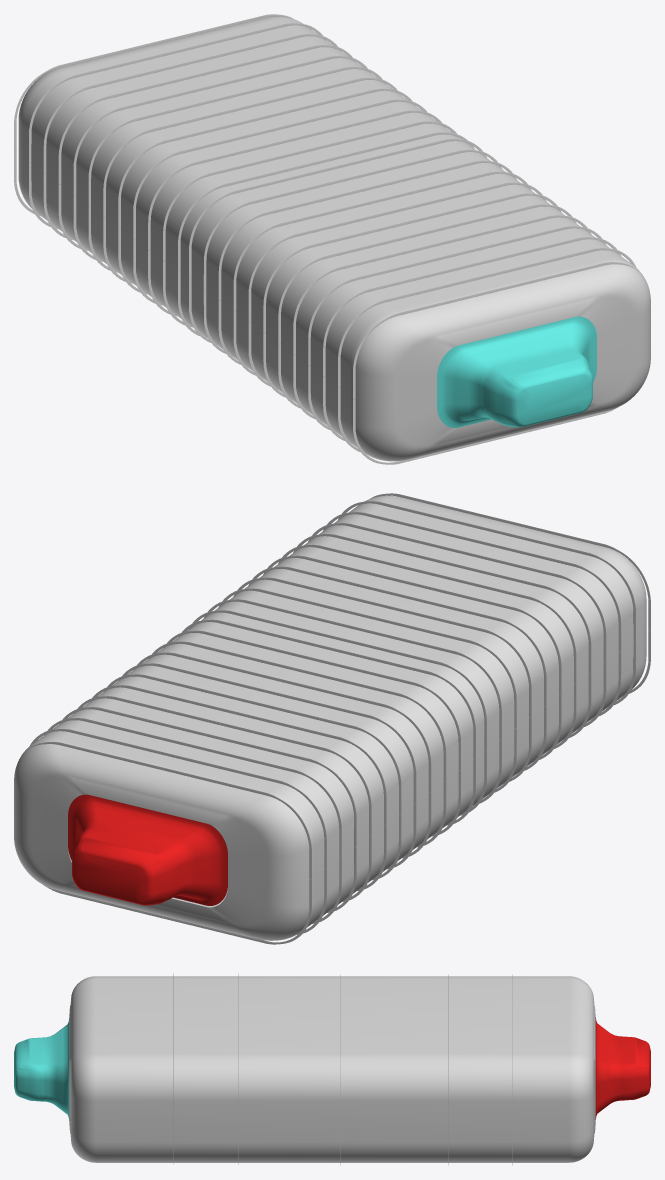
The model's file is MAProcketleague.fbx.
The picture shows the model from 3 angles, top to bottom: view 1: azimuth 30°, elevation 25°; view 2: azimuth 150°, elevation 25°; view 3: azimuth 270°, elevation 25°; orthographic projection. The views are drawn at different scales.
Visible parts, largest first — view 1: Cube, Cube.001, Cylinder.029, Cylinder.013, Cylinder.020, Cylinder.021, Cylinder.022, Cylinder.014, Cylinder.015, Cylinder.019, Cylinder.028, Cylinder.024 (+14 smaller); view 2: Cube, Cube.002, Cylinder.017, Cylinder.025, Cylinder.004, Cylinder.026, Cylinder.002, Cylinder.003, Cylinder.027, Cylinder.005, Cylinder.006, Cylinder.016 (+14 smaller); view 3: Cube, Cube.001, Cube.002.
Part boxes in pixels (x1,y1,x2,y2): Cube: (18, 16, 650, 461); Cube.001: (437, 316, 596, 427); Cylinder.029: (353, 262, 642, 464); Cylinder.013: (73, 55, 367, 261); Cylinder.020: (218, 160, 516, 364); Cylinder.021: (233, 171, 531, 375); Cylinder.022: (248, 182, 546, 386); Cylinder.014: (58, 45, 352, 250); Cylinder.015: (43, 34, 337, 239); Cylinder.019: (203, 149, 501, 353); Cylinder.028: (338, 248, 636, 452); Cylinder.024: (278, 204, 576, 408); Cube: (14, 495, 646, 940); Cube.002: (68, 794, 227, 905); Cylinder.017: (24, 741, 311, 944); Cylinder.025: (293, 534, 591, 737); Cylinder.004: (122, 663, 416, 869); Cylinder.026: (308, 523, 606, 726); Cylinder.002: (152, 641, 446, 847); Cylinder.003: (137, 652, 431, 858); Cylinder.027: (323, 512, 621, 715); Cylinder.005: (107, 674, 401, 880); Cylinder.006: (92, 685, 386, 890); Cylinder.016: (30, 729, 326, 934); Cube: (69, 976, 595, 1162); Cube.001: (14, 1018, 69, 1120); Cube.002: (595, 1017, 650, 1119).
Bounding box in the file's own units: 8199 × 4021 × 20699.
